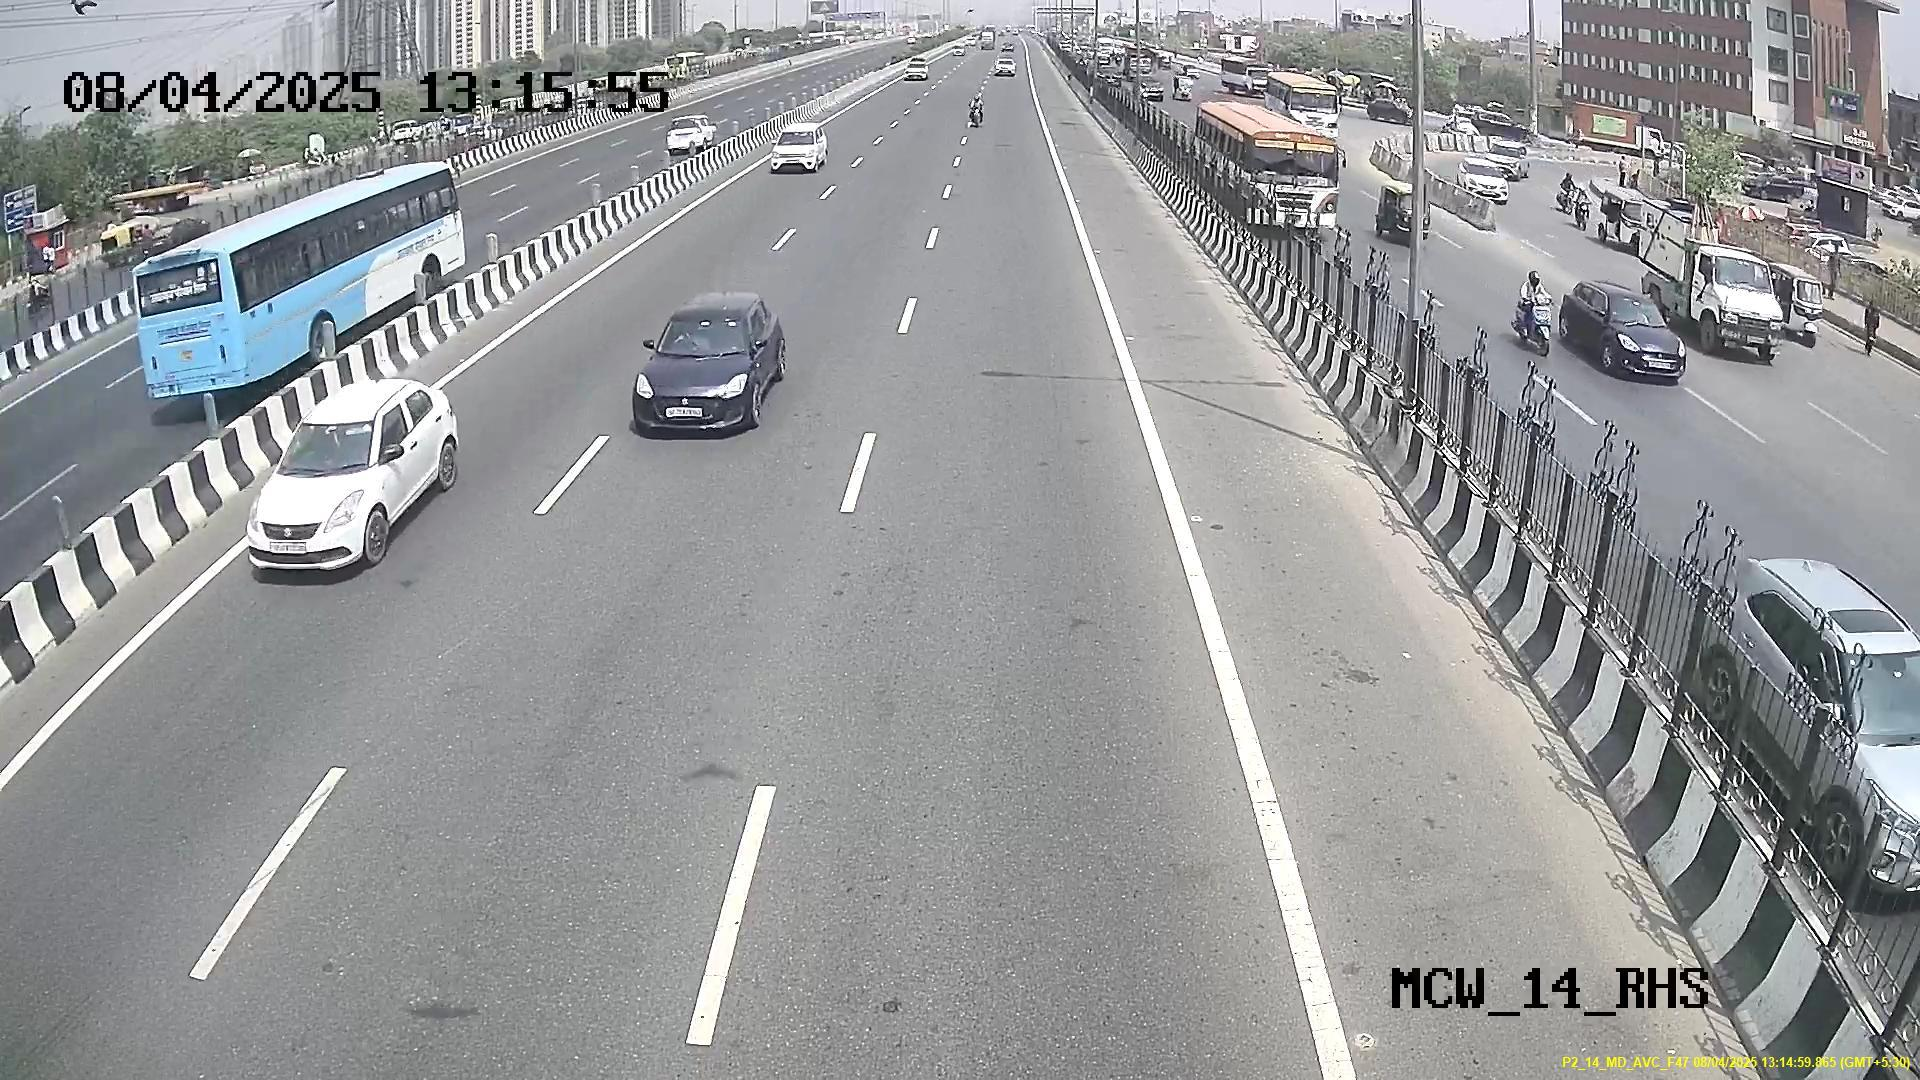car: (243, 389, 407, 582), (628, 295, 777, 442)
